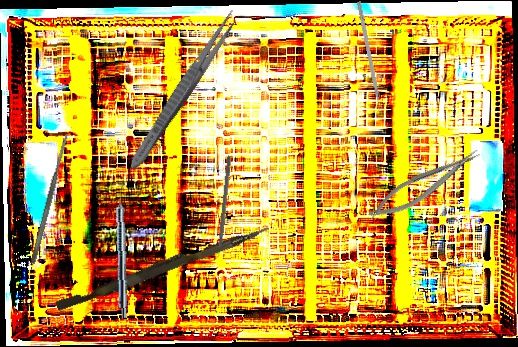Chopper: (351, 1, 383, 117), (210, 154, 232, 264)
Dressing Forceps: (124, 5, 243, 175)
Handpiece: (114, 183, 131, 319)
Needle Holder: (363, 143, 487, 227)
Pusher: (55, 217, 271, 317)
Spatula Surgical: (29, 132, 71, 265)
